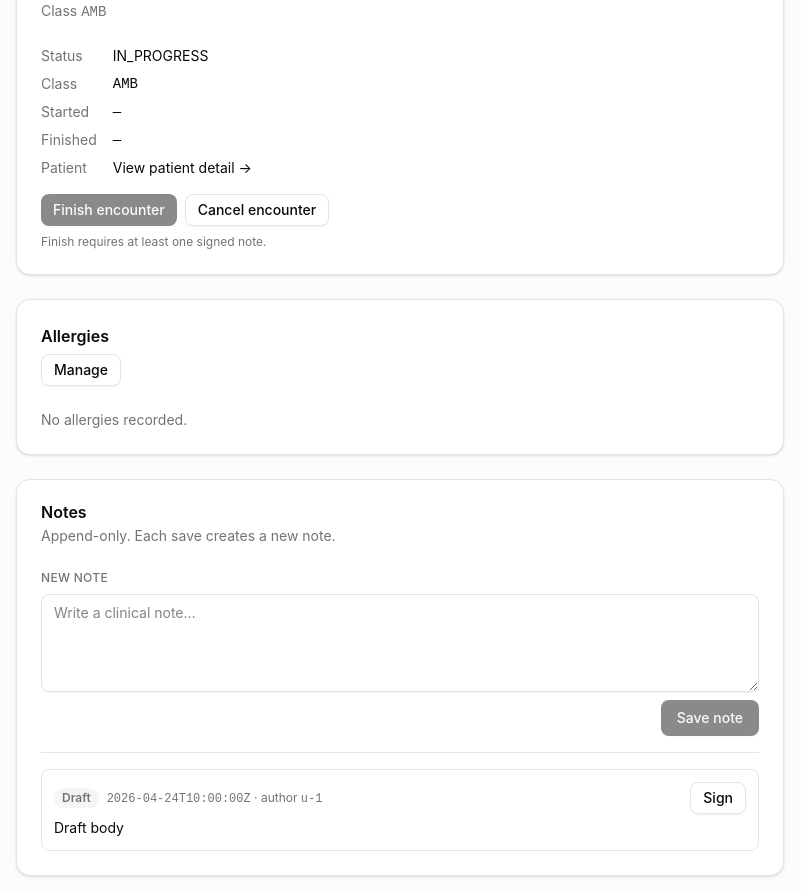
Test case: <EncounterDetailPage /> › clicking Sign transitions the note to signed and refetches
(page scrolled)
Check: the list with test id "notes-list" is shown, box [41, 769, 759, 851]
Click the button with test id "sign-note-button".
click(718, 798)  # box [690, 782, 746, 814]
(page scrolled)
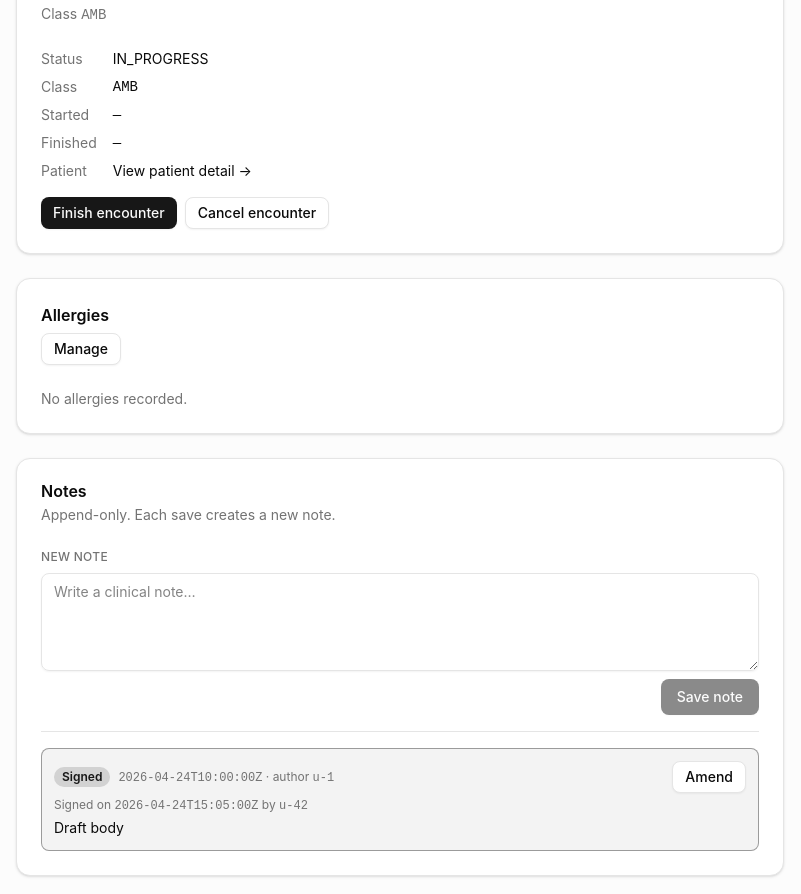
Check: the text with test id "note-status-badge" reads "Signed", box [62, 769, 102, 784]
Check: the button with test id "sign-note-button" is gone
